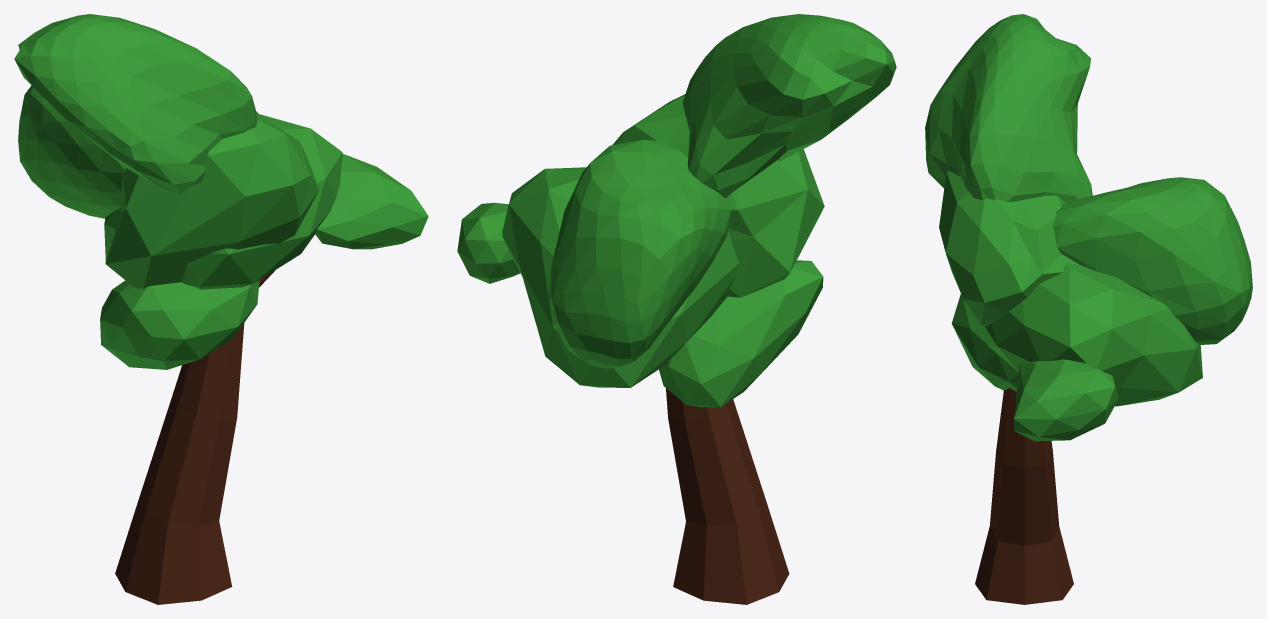
The model's file is LowpolyTree02.fbx.
The picture shows the model from 3 angles, left to right: view 1: azimuth 30°, elevation 25°; view 2: azimuth 150°, elevation 25°; view 3: azimuth 270°, elevation 25°; orthographic projection. The views are drawn at different scales.
Visible parts, largest first — view 1: Icosphere; view 2: Icosphere; view 3: Icosphere.
Part boxes in pixels (<box>): Icosphere: <box>14,14,428,604</box>; Icosphere: <box>457,14,896,604</box>; Icosphere: <box>925,14,1252,604</box>.
Bounding box in the file's own units: 1105 × 1502 × 860.
